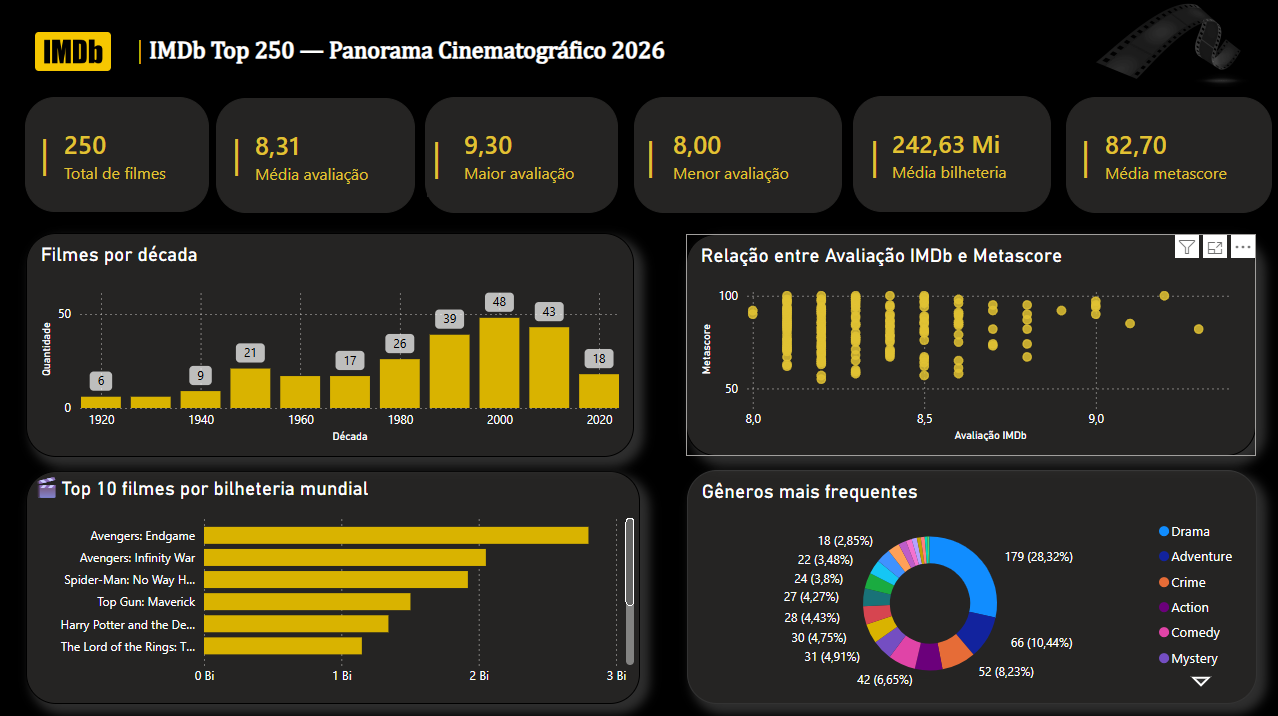

This screenshot's page, from the dashboard's own definition file:
{"tool":"powerbi","page":{"name":"Página 1","canvas":[1280,720],"ordinal":0},"visuals":[{"type":"cardVisual","fields":{"Data":["Max(imdb_filmes filmes.Avaliação IMDb)"]},"box":[425.3,100,192.4,116.5],"z":1000},{"type":"cardVisual","fields":{"Data":["Min(imdb_filmes filmes.Avaliação IMDb)"]},"box":[634.2,100,207.6,116.5],"z":2000},{"type":"cardVisual","fields":{"Data":["Count(imdb_filmes filmes.ID)"]},"box":[25.3,100,183.5,115.2],"z":3000},{"type":"barChart","title":"🎬Top 10 filmes por bilheteria mundial","fields":{"Category":["imdb_filmes filmes.Título"],"Y":["Sum(imdb_filmes filmes.Bilheteria mundial)"]},"box":[26,474,614.4,232.7],"z":4000},{"type":"lineClusteredColumnComboChart","title":"Filmes por década","fields":{"Category":["imdb_filmes filmes.Década"],"Y":["CountNonNull(imdb_filmes filmes.ID)"]},"box":[25.7,235.9,608.3,224.3],"z":5000},{"type":"donutChart","title":"Gêneros mais frequentes","fields":{"Category":["imdb_filmes generos.Gênero"],"Y":["CountNonNull(imdb_filmes generos.Gênero)"]},"box":[686.5,473.1,570.2,233.7],"z":6000},{"type":"textbox","box":[131.6,30.4,543.6,47.5],"z":7000},{"type":"image","box":[34.8,0,76.1,109.3],"z":8000},{"type":"cardVisual","fields":{"Data":["Avg(imdb_filmes filmes.Bilheteria mundial)"]},"box":[853.2,98.7,197.5,116.5],"z":9000},{"type":"scatterChart","title":"Relação entre Avaliação IMDb e Metascore","fields":{"X":["imdb_filmes filmes.Avaliação IMDb"],"Y":["imdb_filmes filmes.Metascore"]},"box":[686.3,236.7,569.3,222.6],"z":10000},{"type":"cardVisual","fields":{"Data":["Avg(imdb_filmes filmes.Metascore)"]},"box":[1065.8,100,206.3,116.5],"z":11000},{"type":"image","box":[1059.6,0,220.8,90.4],"z":12000},{"type":"textbox","box":[34.6,125,21.3,77.1],"z":13000},{"type":"textbox","box":[427.4,127.7,23.9,71.8],"z":15000},{"type":"textbox","box":[640.5,126.6,21.3,72.7],"z":16000},{"type":"textbox","box":[864.6,126.6,23.9,70.9],"z":17000},{"type":"textbox","box":[1075.9,126.6,28.4,63.8],"z":18000},{"type":"cardVisual","fields":{"Data":["Avg(imdb_filmes filmes.Avaliação IMDb)"]},"box":[216.5,101.3,198.7,115.2],"z":18001},{"type":"textbox","box":[226.6,125.3,21.5,73.4],"z":18002}]}

Visuals, with their boxes in screenshot pixels (x1, y1, x2, y2), scaled from the page's 1280x720 canvas onto the 1278x716 screenshot:
cardVisual - Max(imdb_filmes filmes.Avaliação IMDb): 425, 99, 617, 215
cardVisual - Min(imdb_filmes filmes.Avaliação IMDb): 633, 99, 840, 215
cardVisual - Count(imdb_filmes filmes.ID): 25, 99, 208, 214
"🎬Top 10 filmes por bilheteria mundial" barChart: 26, 471, 639, 703
"Filmes por década" lineClusteredColumnComboChart: 26, 235, 633, 458
"Gêneros mais frequentes" donutChart: 685, 470, 1255, 703
textbox: 131, 30, 674, 77
image: 35, 0, 111, 109
cardVisual - Avg(imdb_filmes filmes.Bilheteria mundial): 852, 98, 1049, 214
"Relação entre Avaliação IMDb e Metascore" scatterChart: 685, 235, 1254, 457
cardVisual - Avg(imdb_filmes filmes.Metascore): 1064, 99, 1270, 215
image: 1058, 0, 1277, 90
textbox: 35, 124, 56, 201
textbox: 427, 127, 451, 198
textbox: 639, 126, 661, 198
textbox: 863, 126, 887, 196
textbox: 1074, 126, 1103, 189
cardVisual - Avg(imdb_filmes filmes.Avaliação IMDb): 216, 101, 415, 215
textbox: 226, 125, 248, 198
